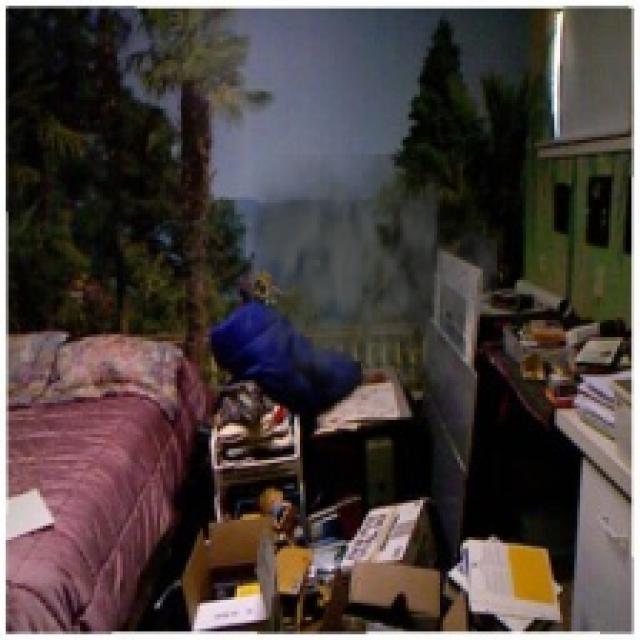smoke: (237, 154, 497, 420)
